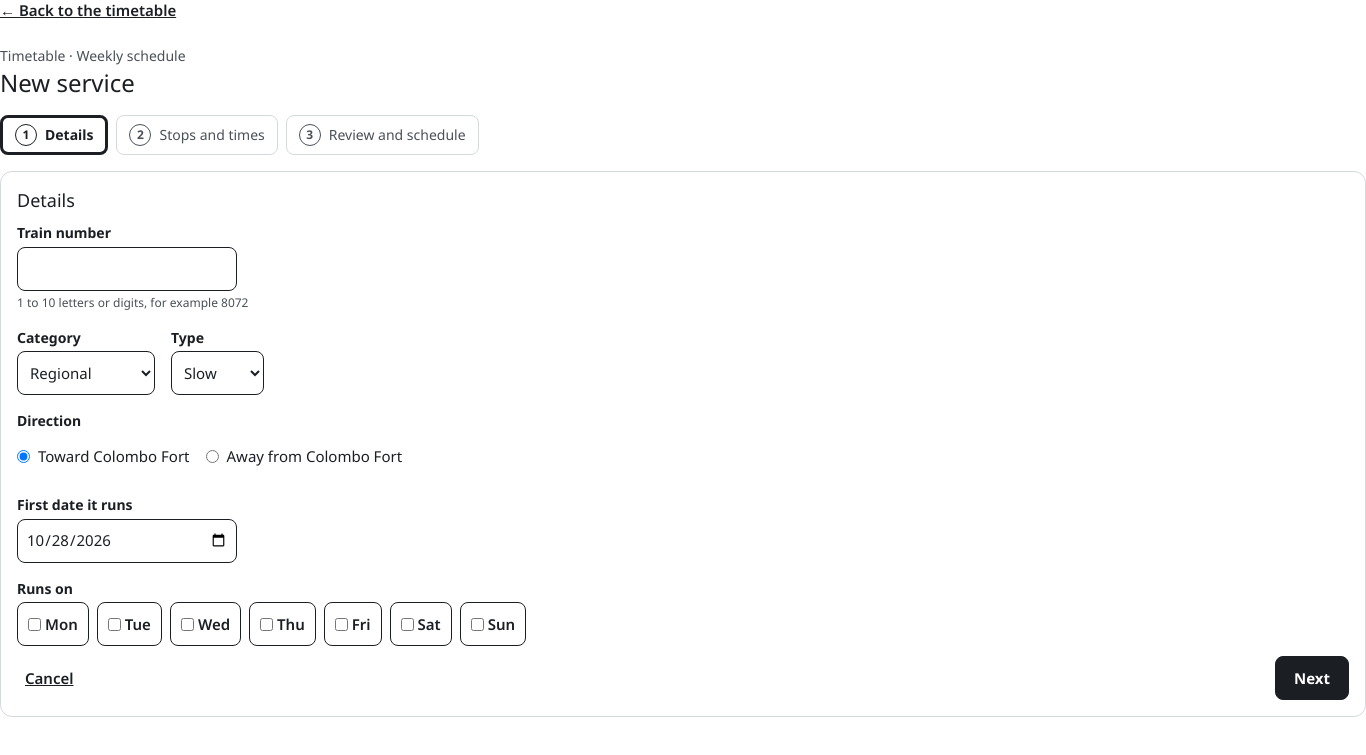
Test case: New weekly service (spec 15, W2) › will not leave step 2 without a time for every included stop
Type "8072" into the field labelled "Train number".
click(127, 269); type("8072")  # box [17,247,237,291]
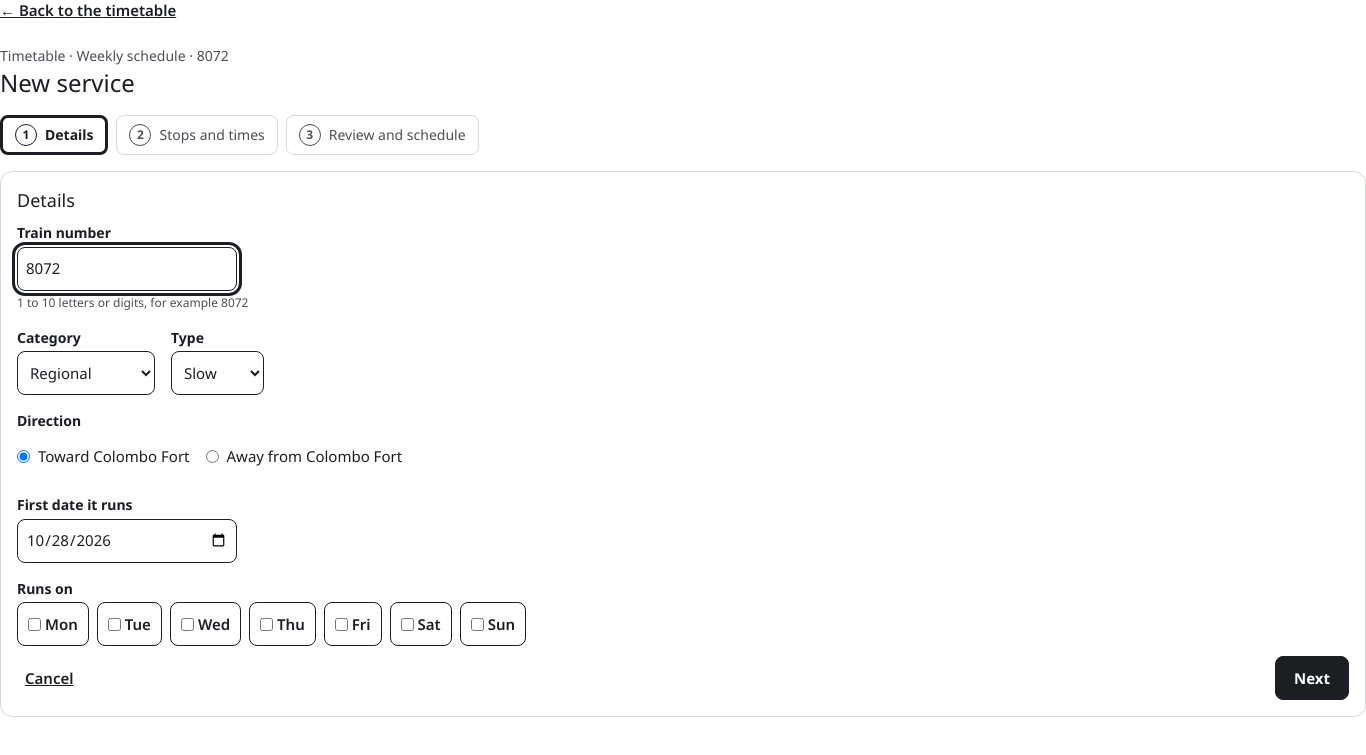
Click the checkbox named "Monday".
click(34, 624)  # box [28,618,41,631]
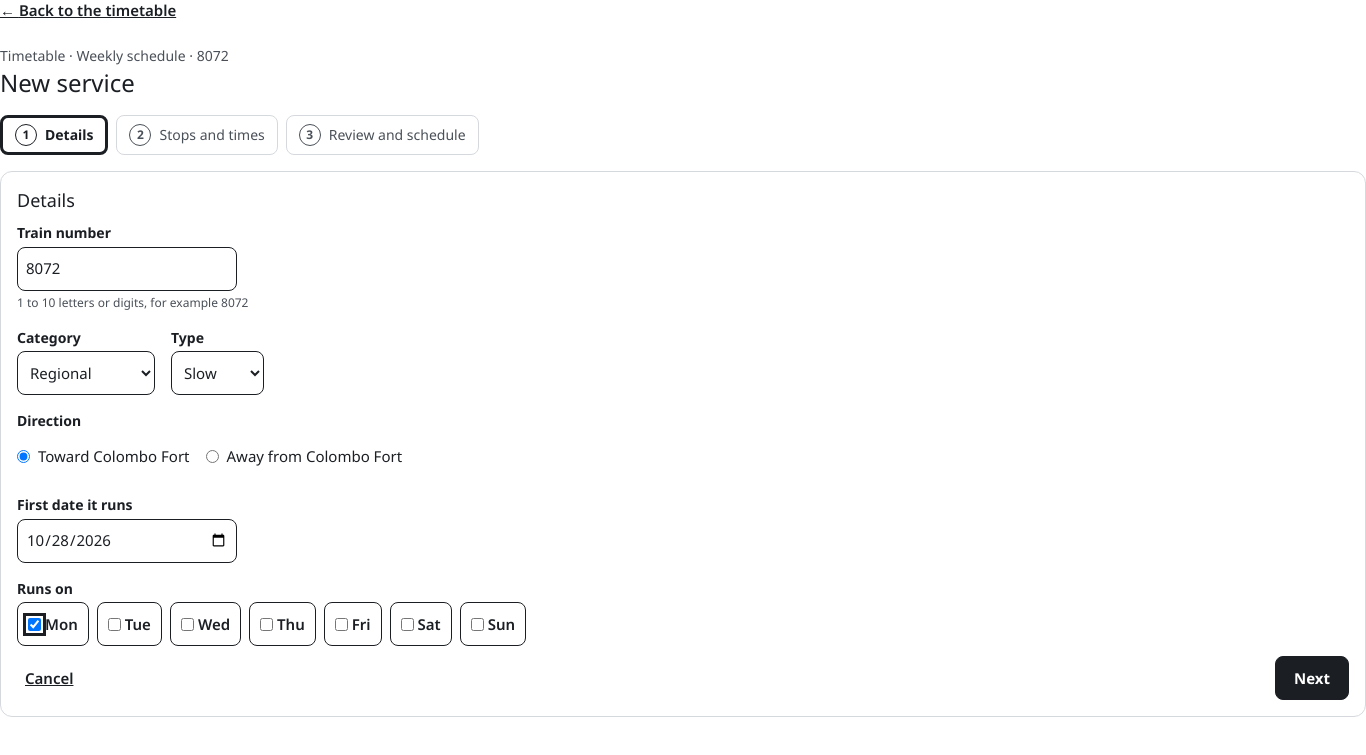
Click the checkbox named "Friday".
click(341, 624)  # box [335,618,348,631]
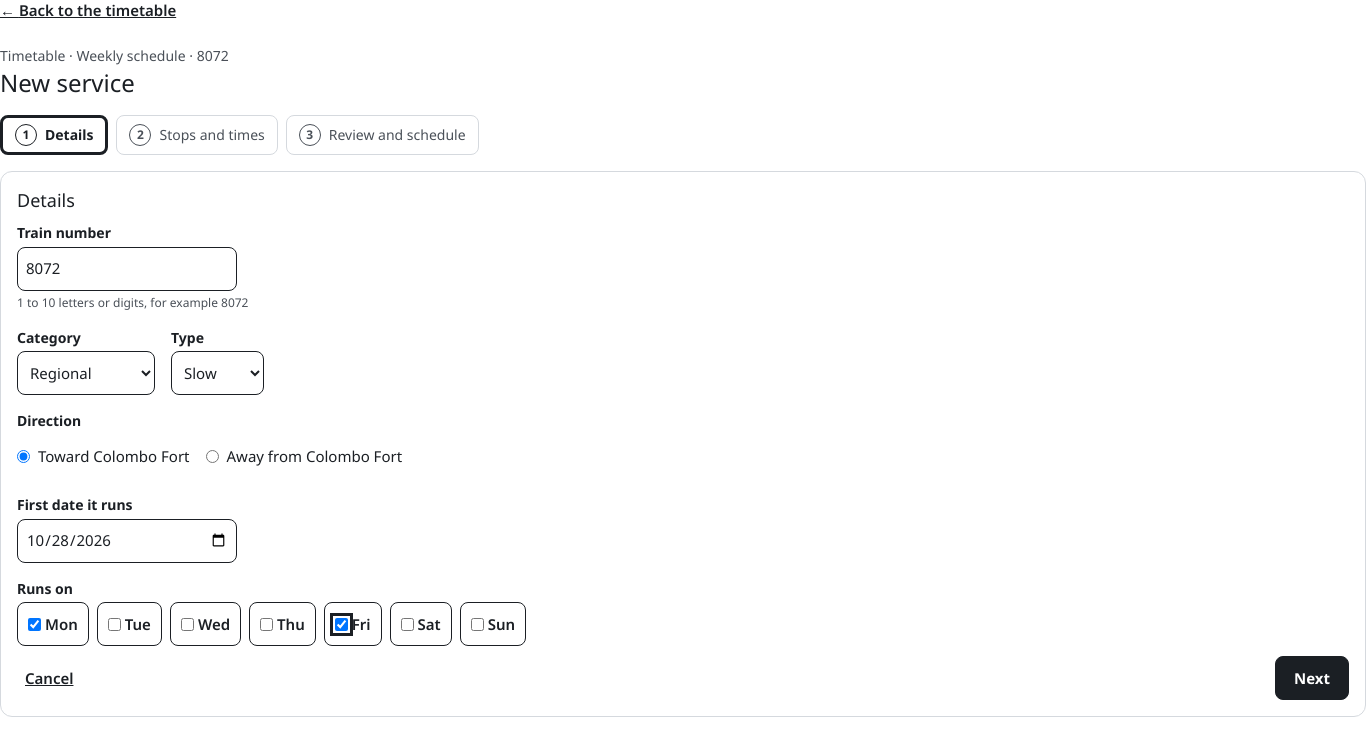
Click the button "Next".
click(1312, 678)  # box [1275,656,1349,700]
(page scrolled)
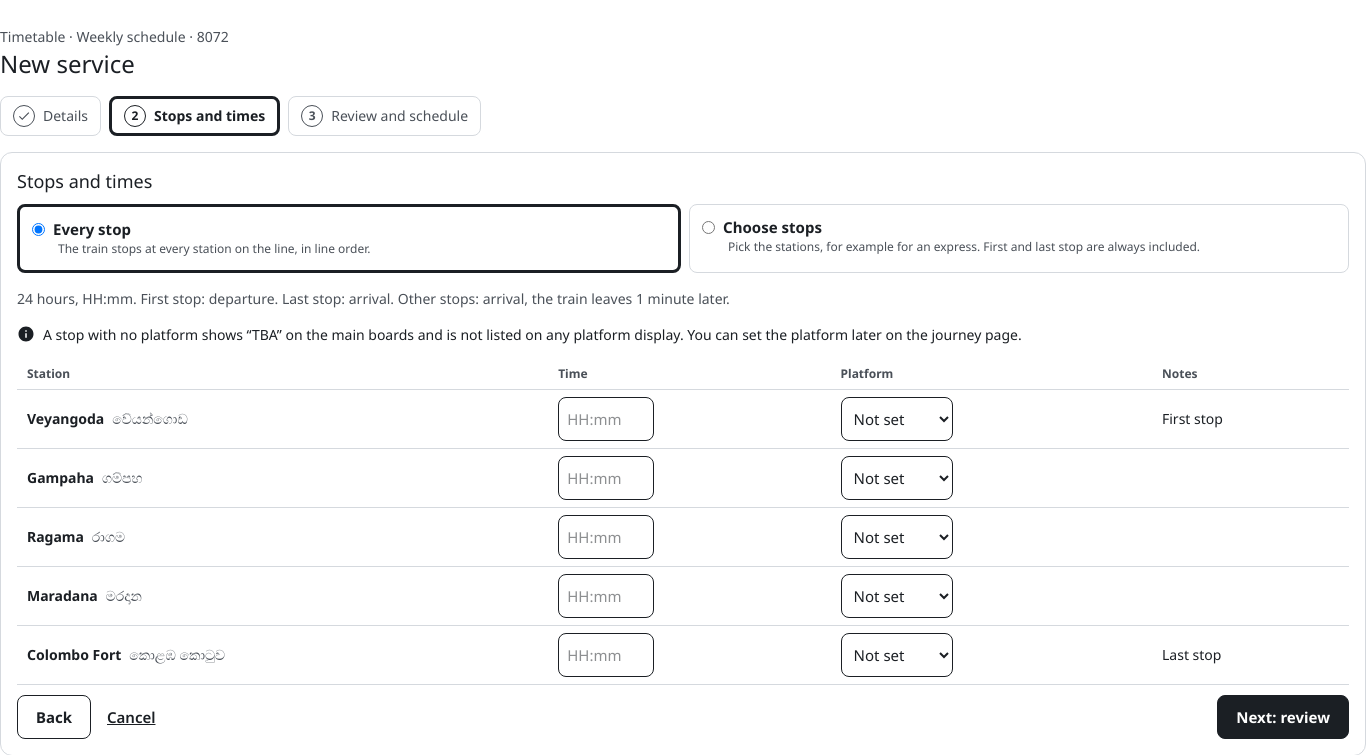
Click the button "Next: review".
click(1283, 717)  # box [1217,695,1349,739]
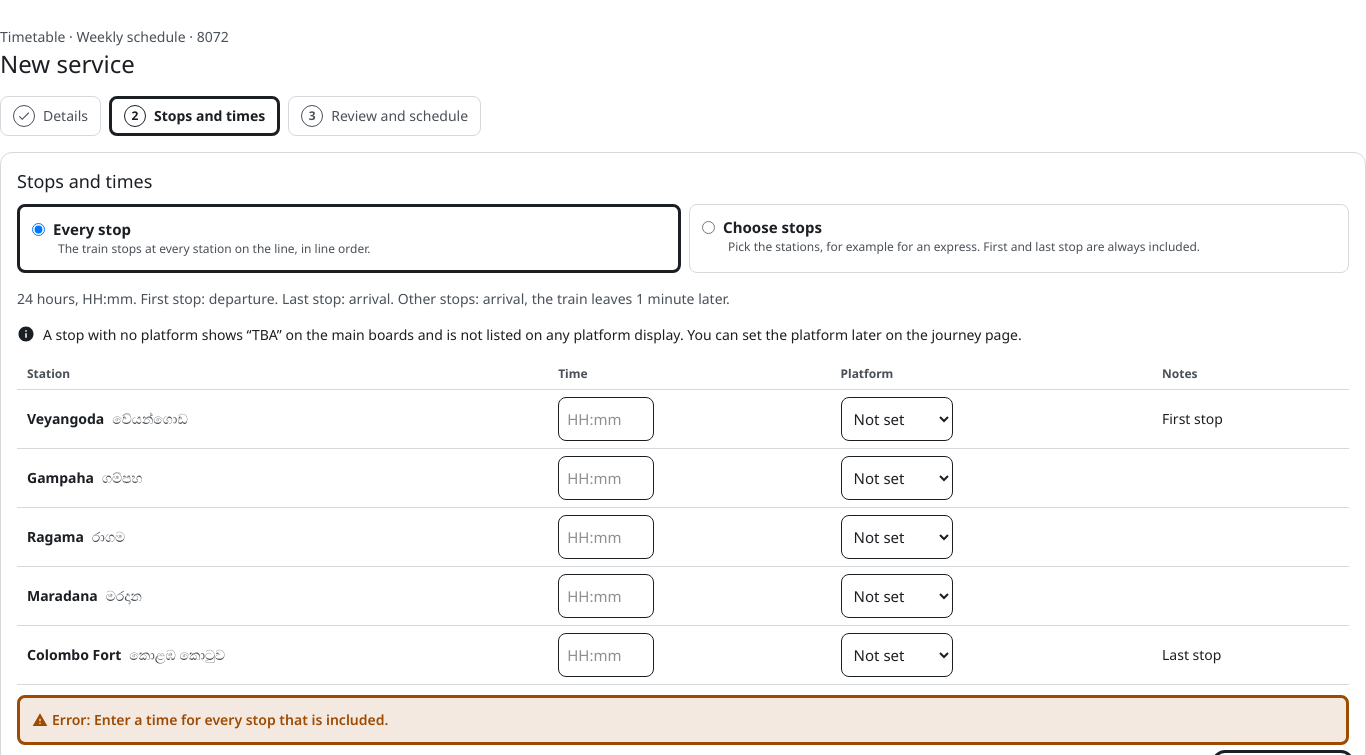
Expected: the list item "Error: Enter a time for every stop that is included." is shown, [32,710,388,729]
